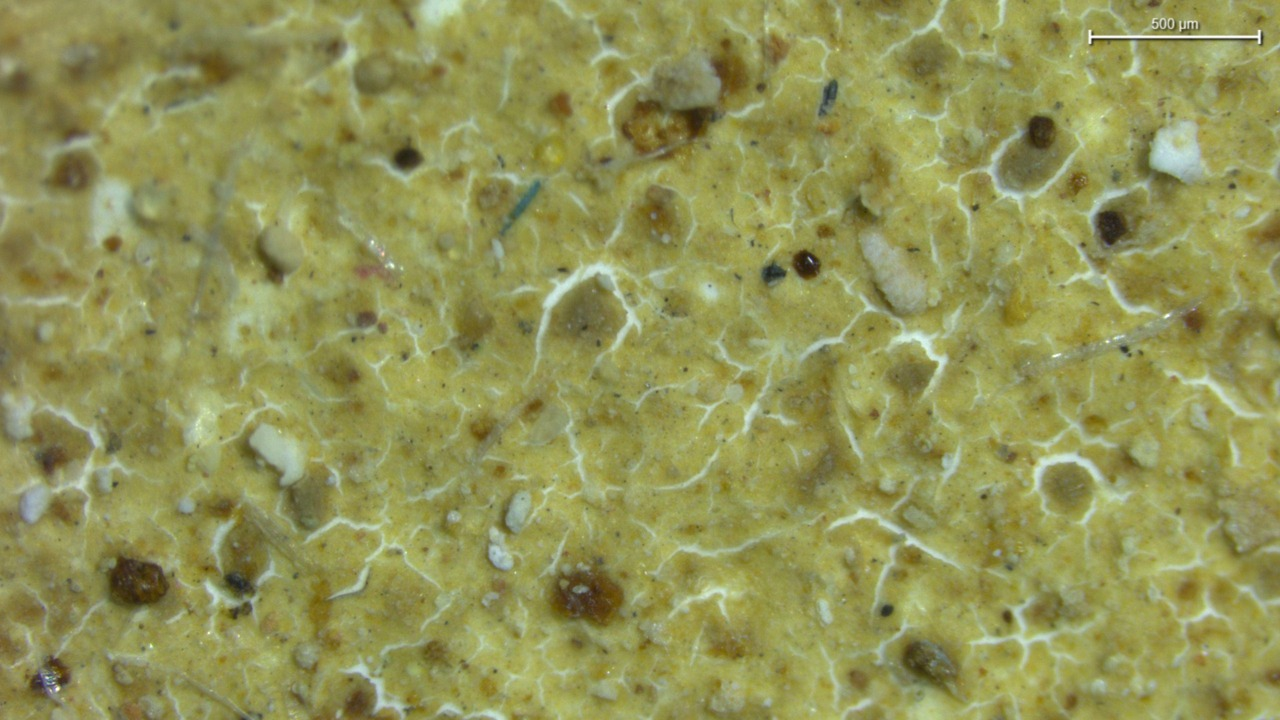microplastic_fragment: (647, 53, 721, 110), (248, 423, 306, 486), (1149, 121, 1204, 183)
